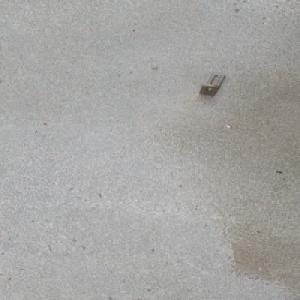MetalPart: (198, 72, 227, 96)
